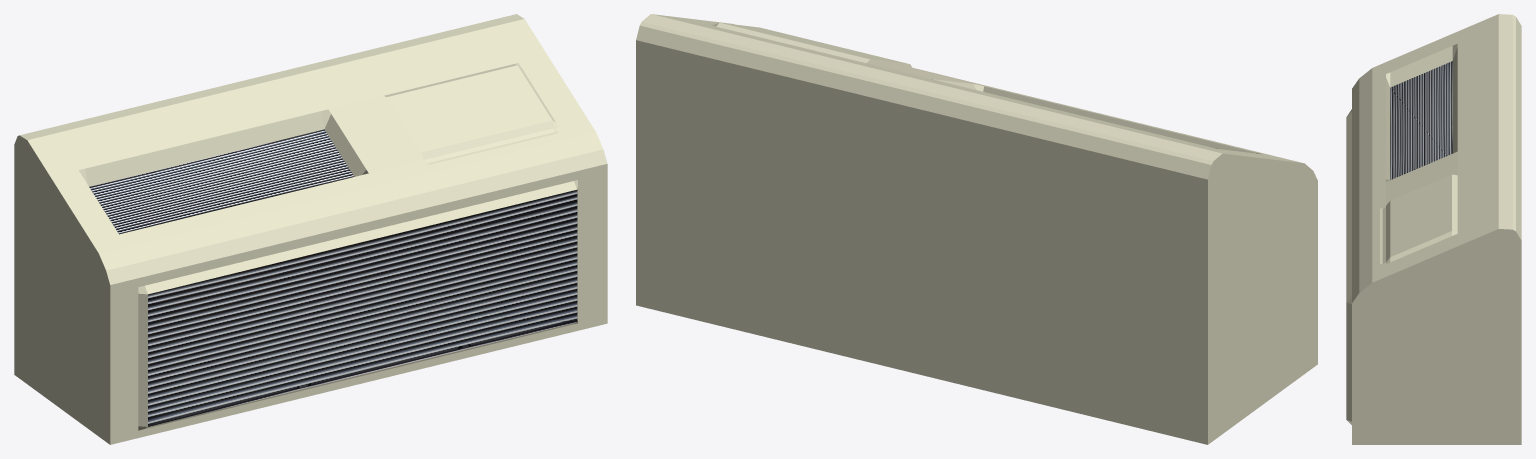
File: HeaterUnit.fbx
3 renders of one model, left to right at view 1: azimuth 30°, elevation 25°; view 2: azimuth 150°, elevation 25°; view 3: azimuth 270°, elevation 25°, orthographic. The views are drawn at different scales.
Parts seen in each view (by area): view 1: Cube, Cube.001, Cube.002; view 2: Cube; view 3: Cube, Cube.002.
Boxes of the visible parts, <box> form: Cube: <box>14,14,607,444</box>; Cube.001: <box>148,190,577,426</box>; Cube.002: <box>89,129,354,234</box>; Cube: <box>636,14,1317,444</box>; Cube: <box>1346,14,1521,444</box>; Cube.002: <box>1390,61,1452,179</box>.
Size of the model in its own units: 207 by 600 by 281.
